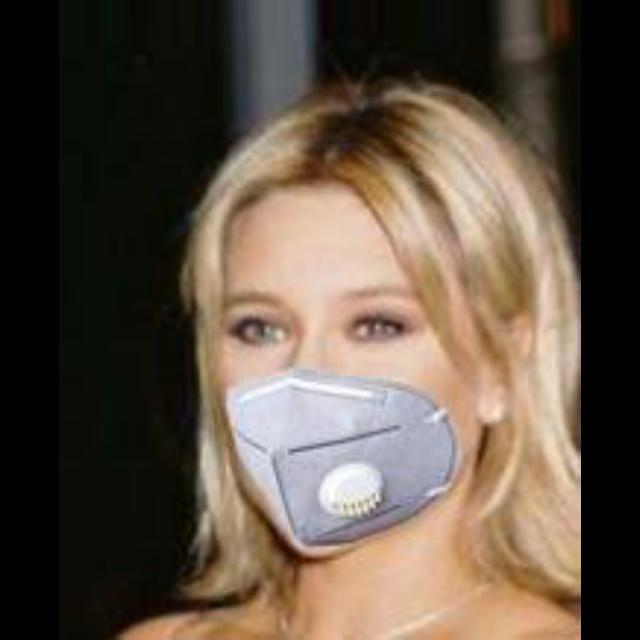suspicion: (160, 102, 518, 560)
